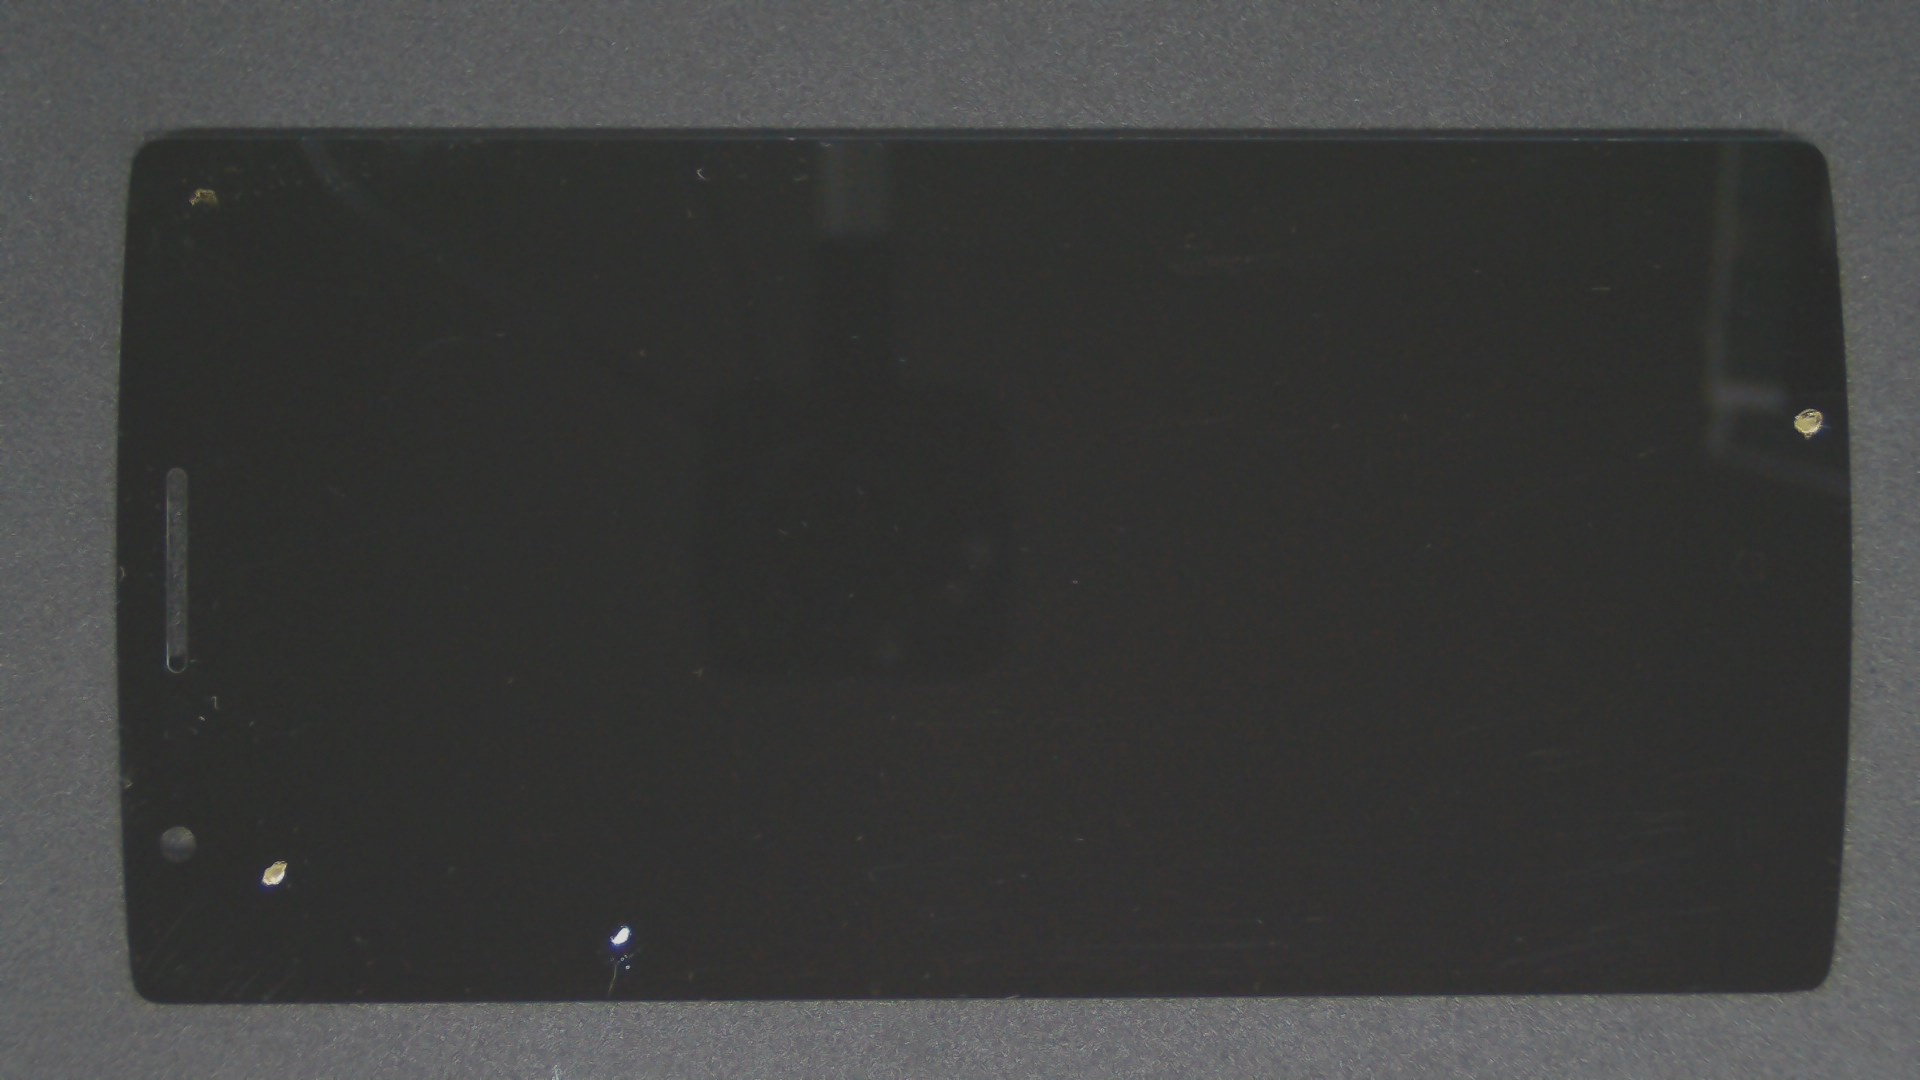oil: (903, 203, 1920, 612), (313, 462, 935, 1080), (318, 476, 951, 1080), (314, 481, 939, 1080), (142, 429, 427, 1080)
